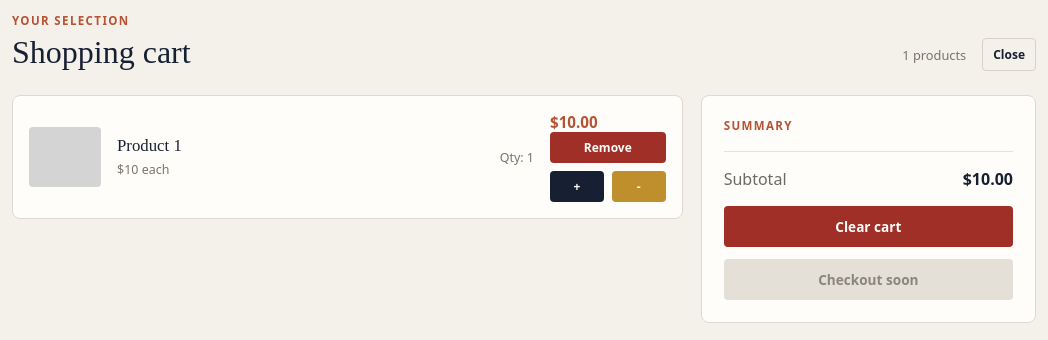
Test: Cart › removes the item when clicking - on quantity 1
This screenshot has width=1048, height=340.
Click the button "-": (639, 186) [612,171,666,202]
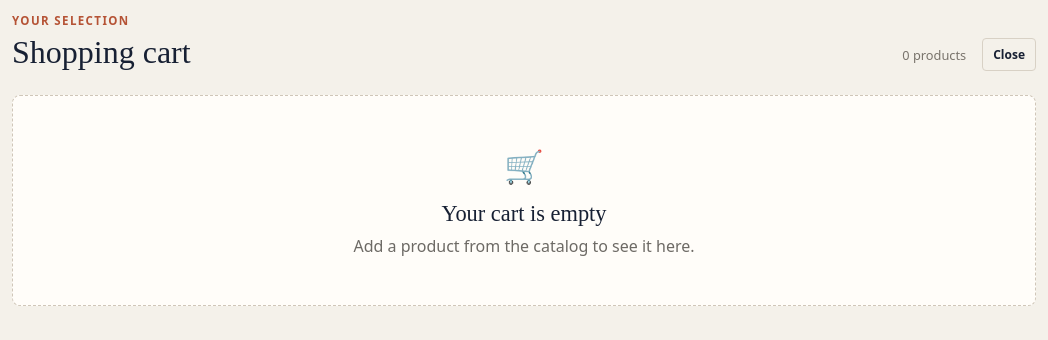
Expected: the heading "Your cart is empty" is shown, [442,201,606,226]
